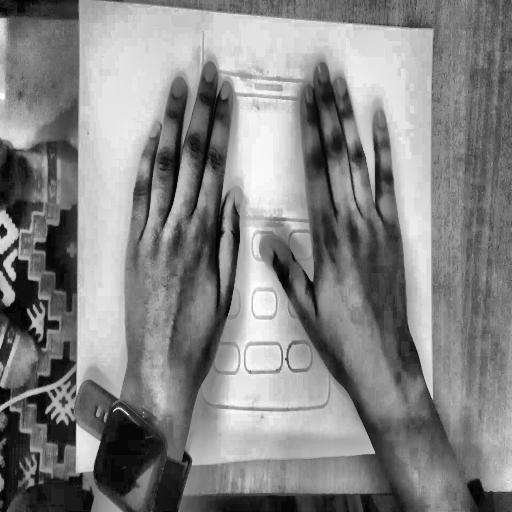bottom_left: (72, 467, 80, 479)
bottom_right: (430, 435, 437, 447)
mobile: (193, 21, 339, 425)
top_right: (430, 25, 437, 38)
